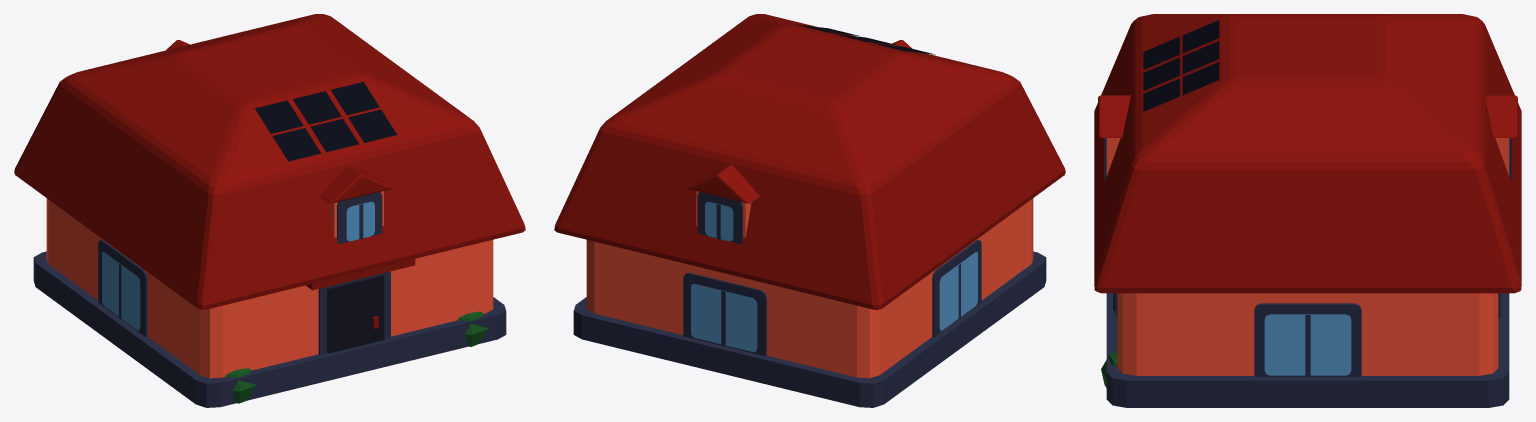
Rendered from house-1x1-1f-mansard-c-solar.glb.
3 views of the same model, side by side, from view 1: azimuth 30°, elevation 25°; view 2: azimuth 150°, elevation 25°; view 3: azimuth 270°, elevation 25° (orthographic). The views are drawn at different scales.
Visible parts, largest first — view 1: house-1x1-1f-mansard-c-solar; view 2: house-1x1-1f-mansard-c-solar; view 3: house-1x1-1f-mansard-c-solar.
Part boxes in pixels (x1,y1,x2,y2): house-1x1-1f-mansard-c-solar: (14,14,525,407); house-1x1-1f-mansard-c-solar: (554,14,1065,407); house-1x1-1f-mansard-c-solar: (1094,14,1521,407).
Size of the model in its own units: 0.9876 by 0.7026 by 0.9876.
Materials: 1 (1 with a texture image).
